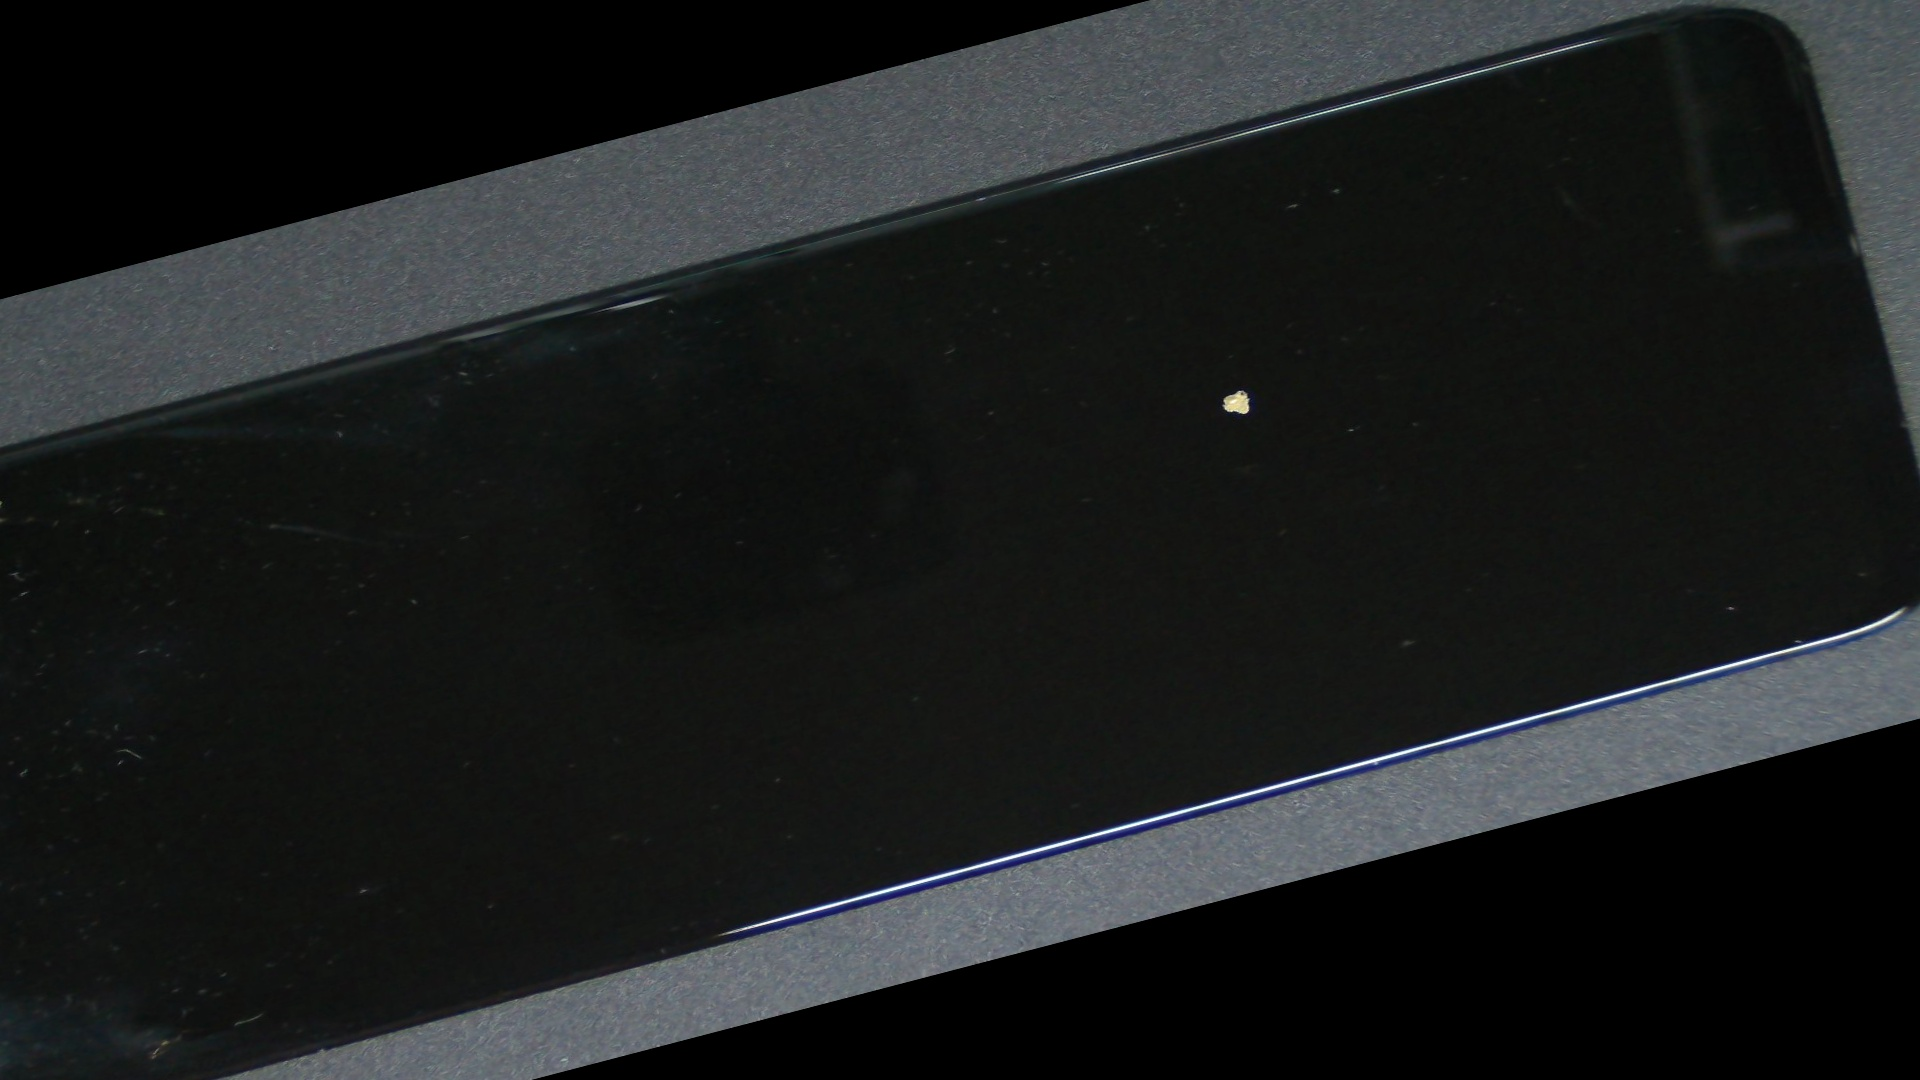oil: (455, 5, 1920, 773)
